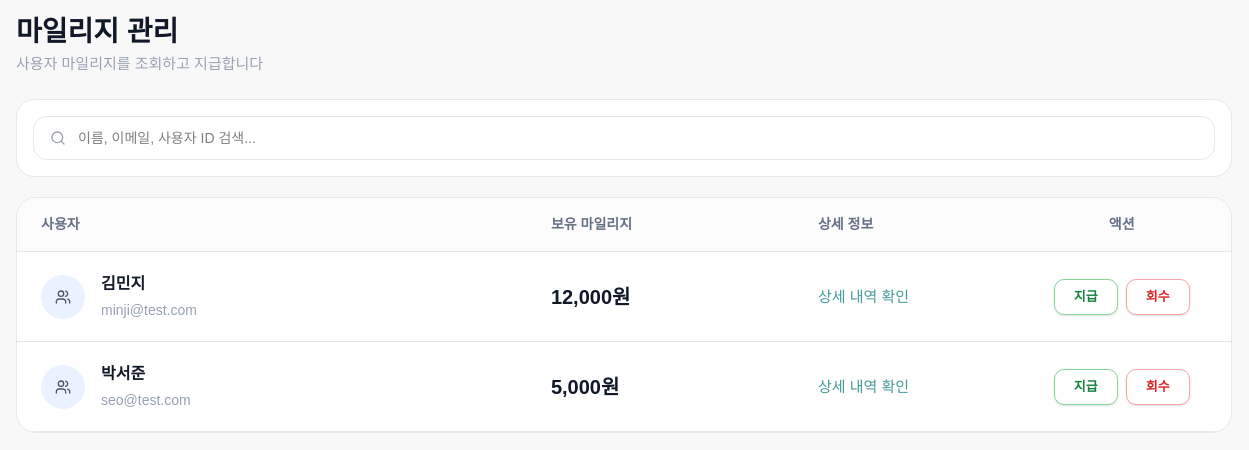
PointManageClient 컴포넌트 테스트 › 검색어로 사용자 목록을 필터링한다
In the field with placeholder "이름, 이메일, 사용자 ID 검색...": x=638, y=138 left=78, top=128, right=1198, bottom=149, type "김민지"
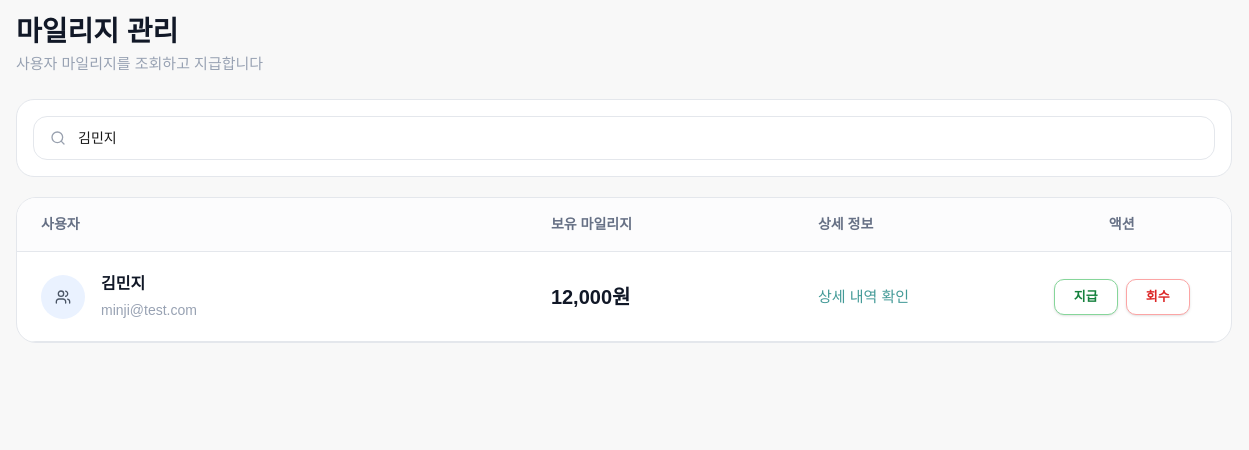
Check: the text "김민지" is shown, box left=101, top=275, right=145, bottom=292
Check: the button "박서준" is gone
